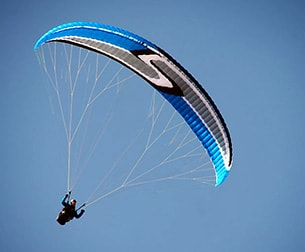Paraglider: (31, 20, 242, 187)
